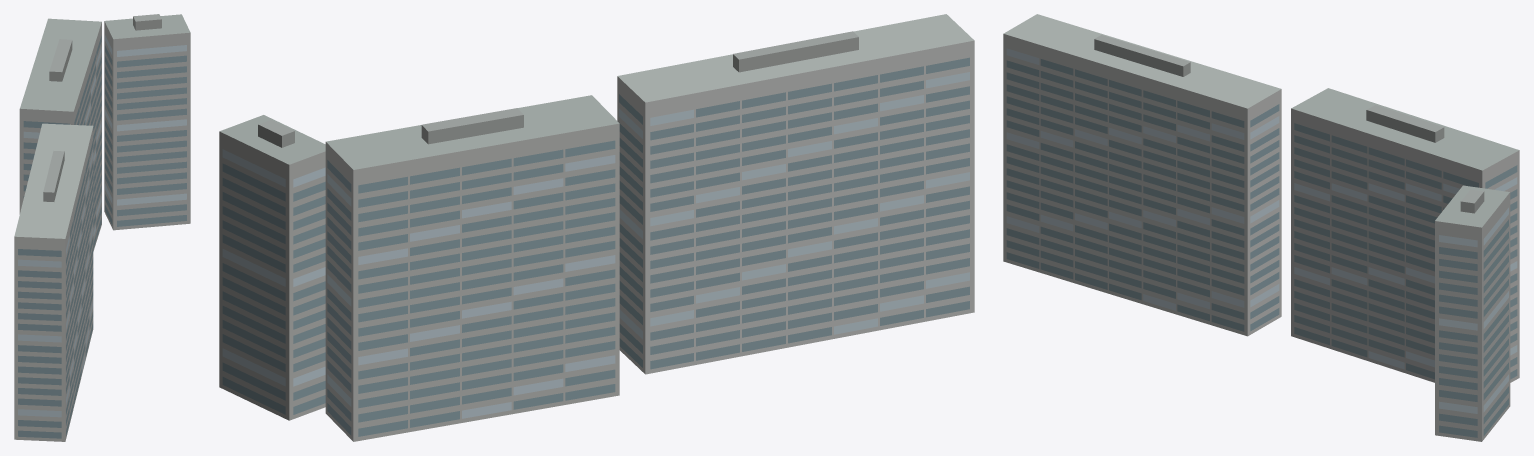
File: apt-a13080801.glb
The picture shows the model from 3 angles, left to right: view 1: azimuth 30°, elevation 25°; view 2: azimuth 150°, elevation 25°; view 3: azimuth 270°, elevation 25°; orthographic projection. The views are drawn at different scales.
Parts seen in each view (by area): view 1: apt-a13080801; view 2: apt-a13080801; view 3: apt-a13080801.
Part boxes in pixels (<box>): apt-a13080801: <box>14,14,190,441</box>; apt-a13080801: <box>219,14,974,441</box>; apt-a13080801: <box>1003,14,1519,441</box>.
Bounding box in the file's own units: 91.81 × 51 × 100.
